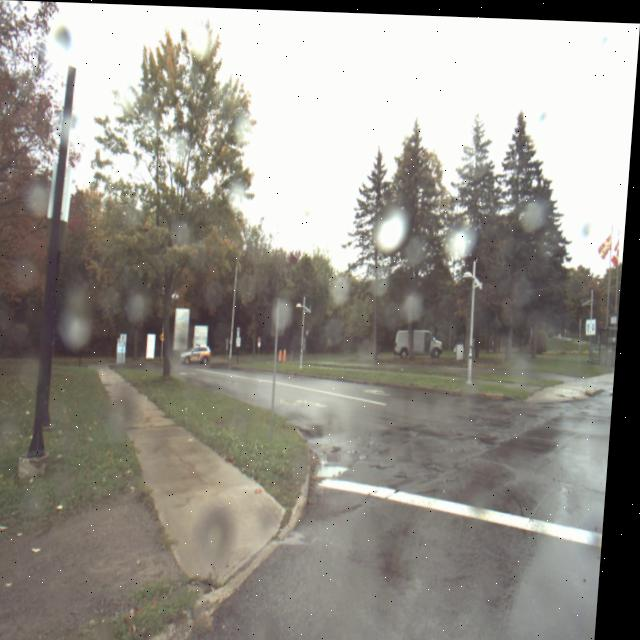car: (184, 341, 217, 366)
